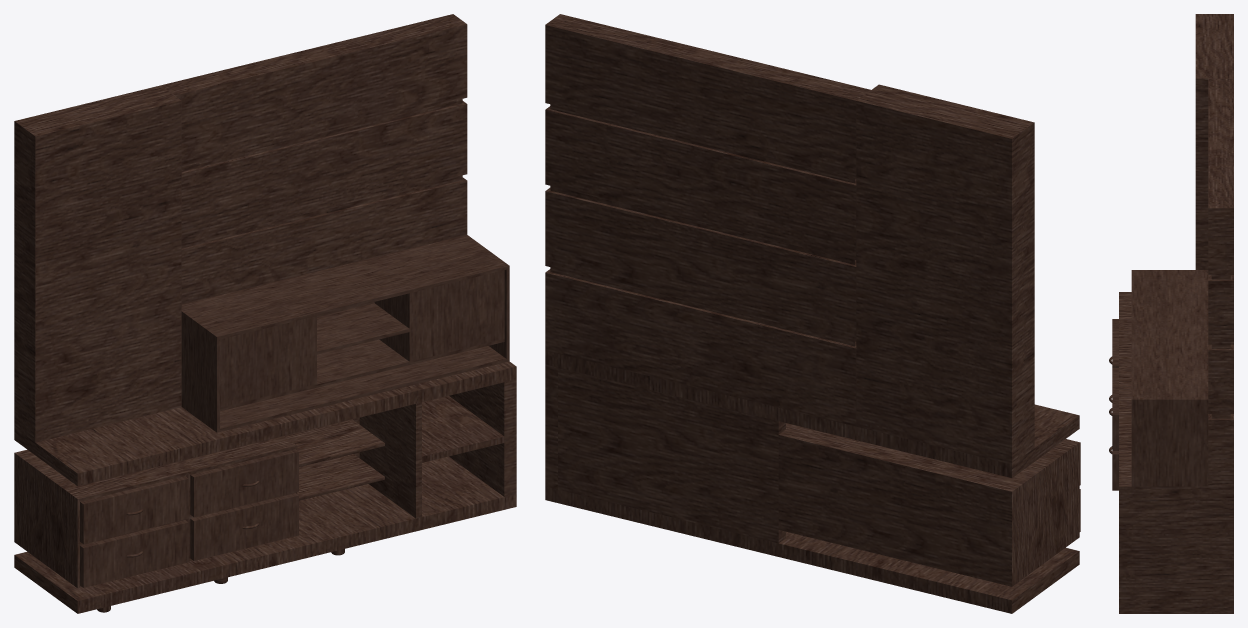
Rendered from tv_wall_cabinet.glb.
3 views of the same model, side by side, from view 1: azimuth 30°, elevation 25°; view 2: azimuth 150°, elevation 25°; view 3: azimuth 270°, elevation 25° (orthographic). The views are drawn at different scales.
Parts seen in each view (by area): view 1: Object_2, Object_3; view 2: Object_2; view 3: Object_2, Object_3.
Part boxes in pixels (x1=…): Object_2: x1=14, y1=14, x2=516, y2=613; Object_3: x1=80, y1=235, x2=509, y2=587; Object_2: x1=545, y1=14, x2=1079, y2=613; Object_2: x1=1109, y1=14, x2=1233, y2=613; Object_3: x1=1112, y1=270, x2=1208, y2=490.
Size of the model in its own units: 1.97 by 1.97 by 0.5353.
Materials: 2 (2 with a texture image).
